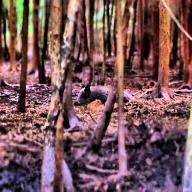boar: (74, 84, 148, 114)
